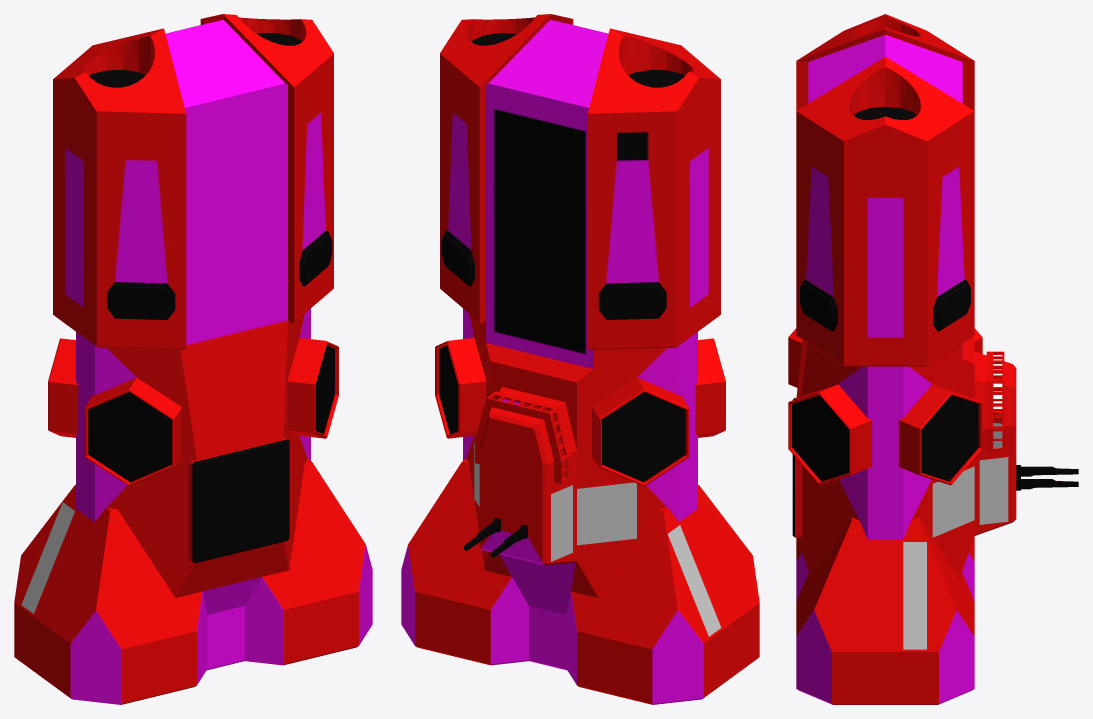
File: Wicher10.fbx
3 renders of one model, left to right at view 1: azimuth 30°, elevation 25°; view 2: azimuth 150°, elevation 25°; view 3: azimuth 270°, elevation 25°, orthographic. The views are drawn at different scales.
Visible parts, largest first — view 1: Hull_LOD0; view 2: Hull_LOD0; view 3: Hull_LOD0.
Part boxes in pixels (box(x1,y1,x2,y2)): Hull_LOD0: box(14, 14, 372, 704); Hull_LOD0: box(401, 14, 759, 704); Hull_LOD0: box(788, 14, 1078, 704).
Bounding box in the file's own units: 420 × 825 × 366.
